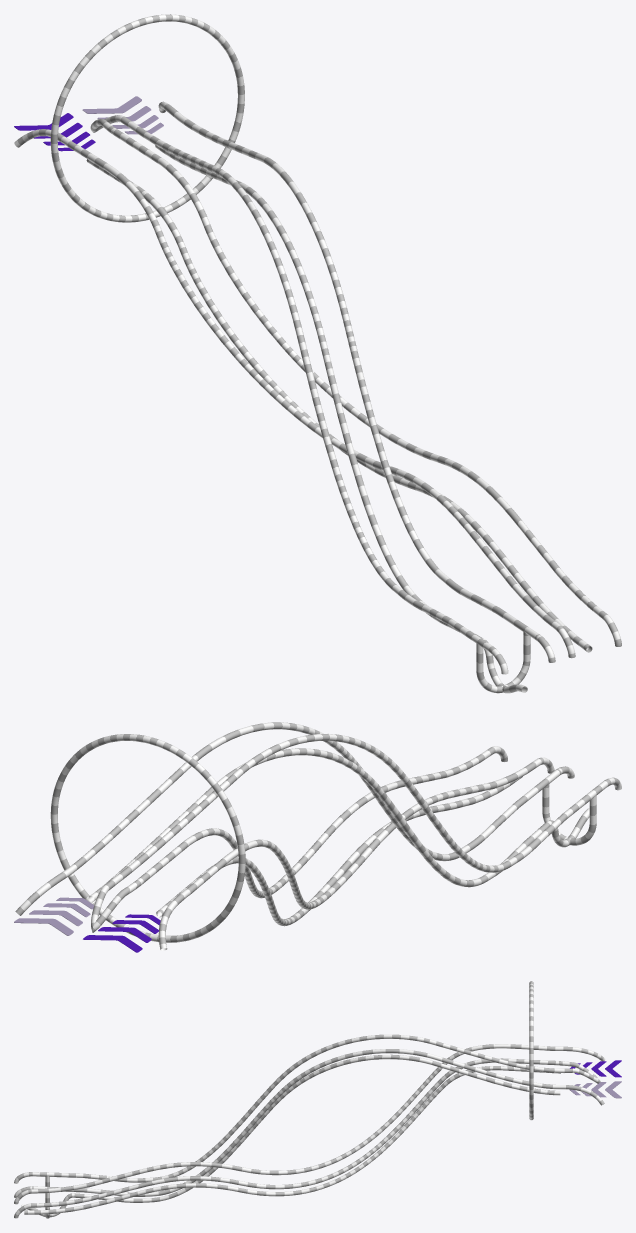
The model's file is 2RailDownReverse.fbx.
The picture shows the model from 3 angles, top to bottom: view 1: azimuth 30°, elevation 25°; view 2: azimuth 150°, elevation 25°; view 3: azimuth 270°, elevation 25°; orthographic projection. The views are drawn at different scales.
Parts seen in each view (by area): view 1: 2RailDownReverse001; view 2: 2RailDownReverse001; view 3: 2RailDownReverse001.
Boxes of the visible parts, x1,y1,x2,y2 form: 2RailDownReverse001: [14, 14, 621, 693]; 2RailDownReverse001: [14, 722, 621, 952]; 2RailDownReverse001: [14, 981, 621, 1218].
Bounding box in the file's own units: 261 × 1140 × 495.
4 materials, 2 textured.
